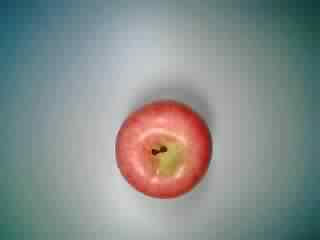apple: (113, 98, 217, 202)
